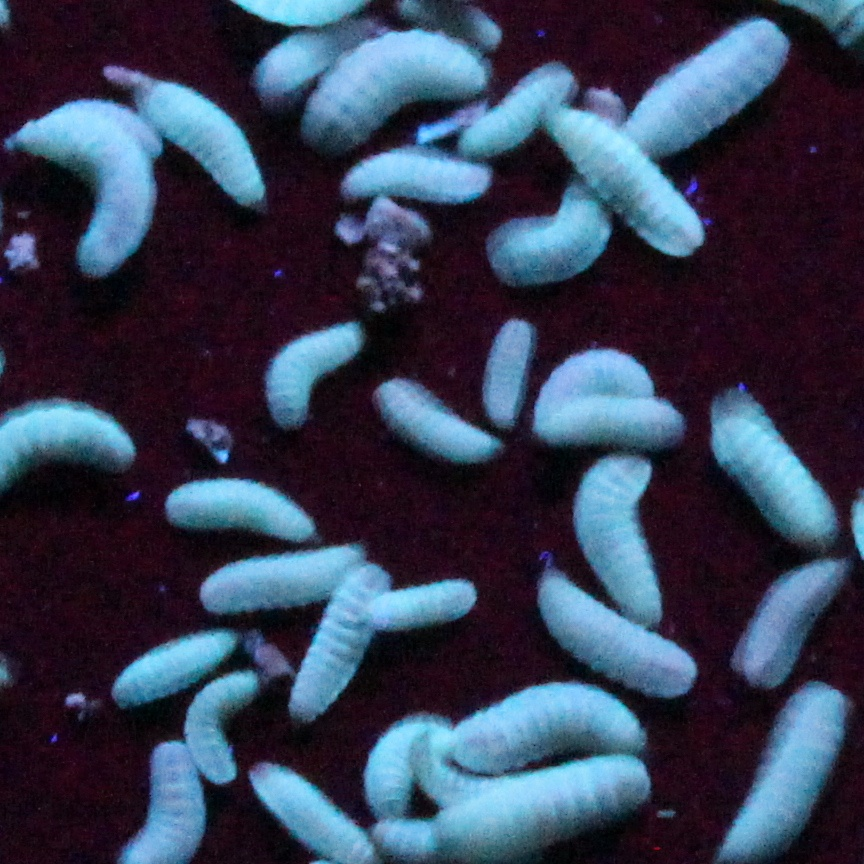larve: (709, 677, 843, 857), (437, 754, 657, 857), (700, 389, 846, 543), (626, 29, 809, 149), (532, 569, 691, 700), (17, 109, 143, 274), (137, 77, 280, 209), (569, 114, 711, 243), (266, 314, 369, 432), (577, 469, 652, 620), (291, 580, 383, 703), (254, 774, 389, 857), (197, 549, 366, 612), (103, 623, 229, 706), (503, 186, 609, 280), (160, 483, 332, 537), (543, 400, 689, 446), (372, 714, 443, 806), (480, 323, 537, 420), (369, 580, 474, 632)
